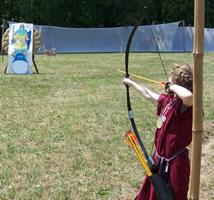person: (124, 64, 194, 199)
